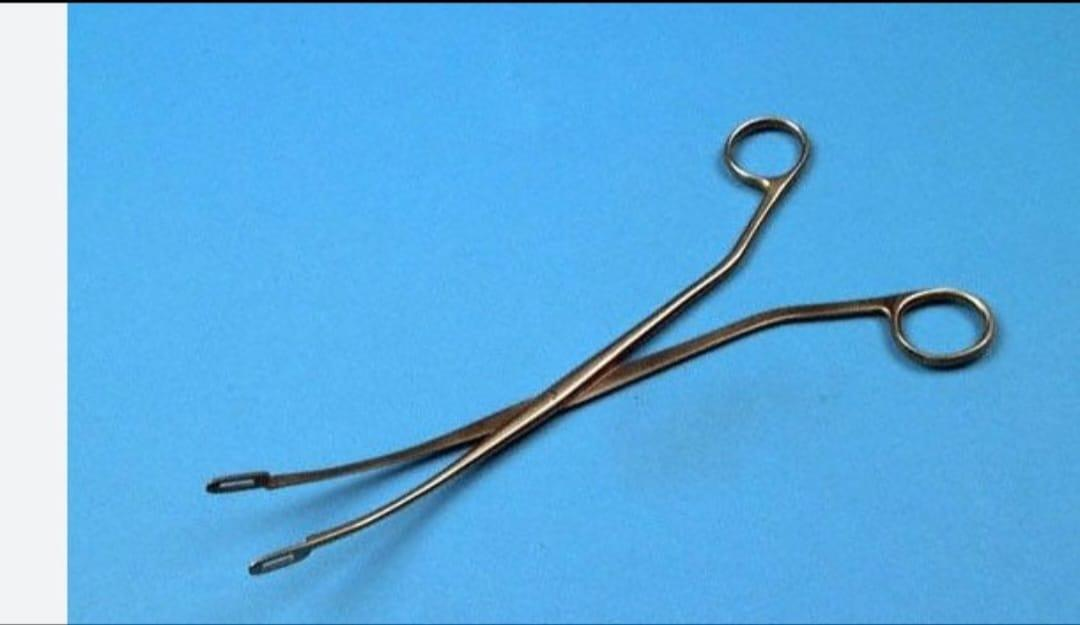Desjardin Forceps: (203, 110, 1005, 584)
